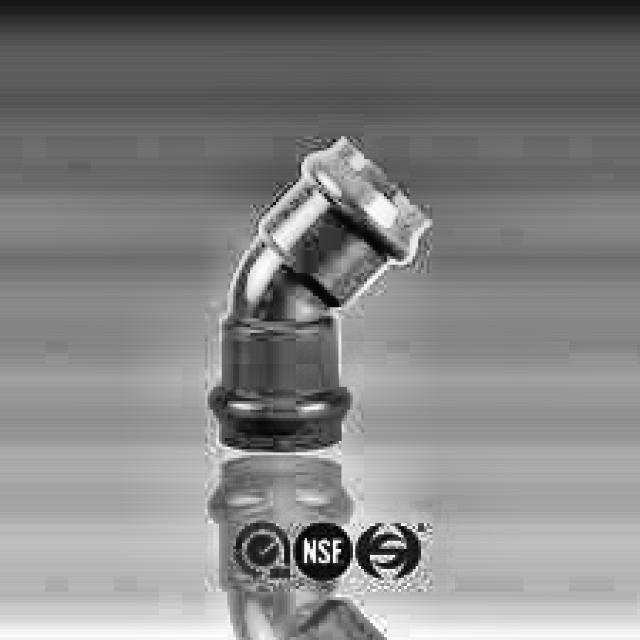ELBOW45: (210, 137, 432, 455)
